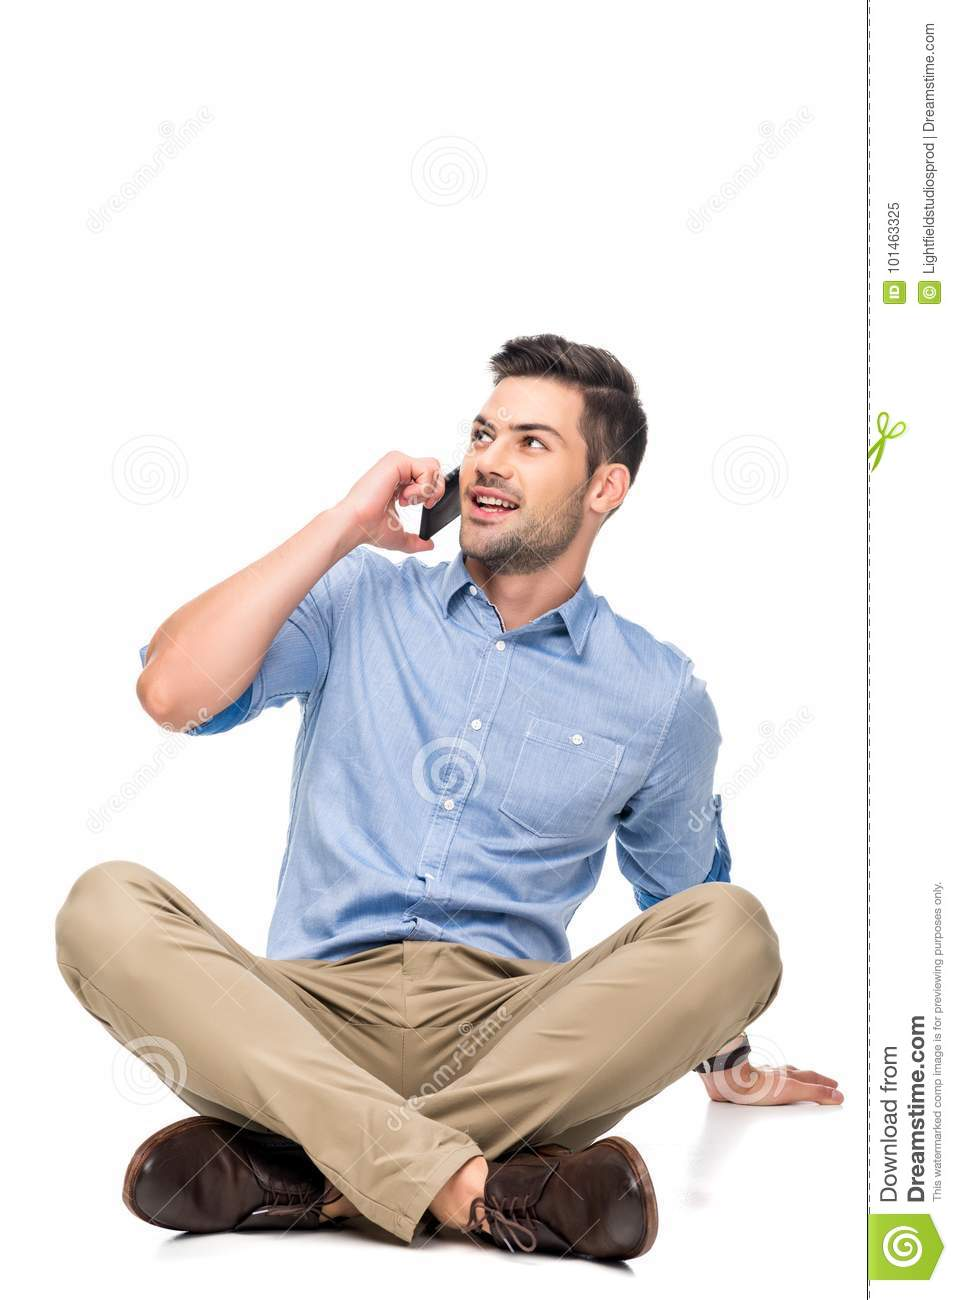phone: (419, 458, 460, 544)
talk: (341, 411, 570, 570)
